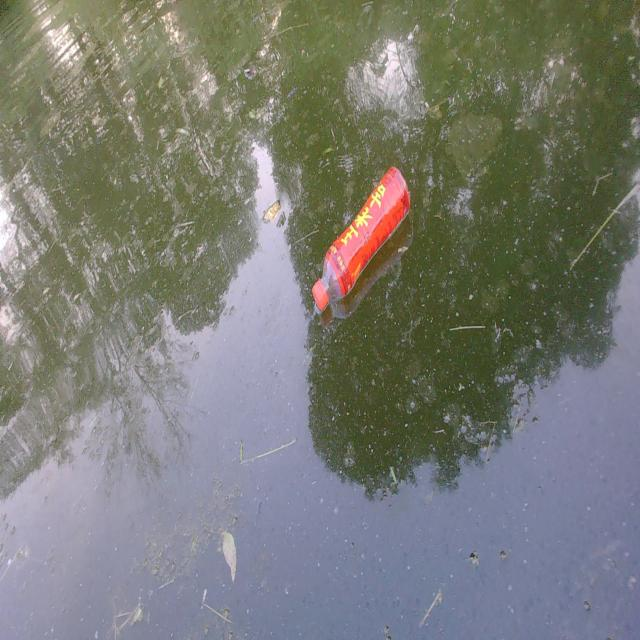Bottle: (310, 162, 414, 310)
